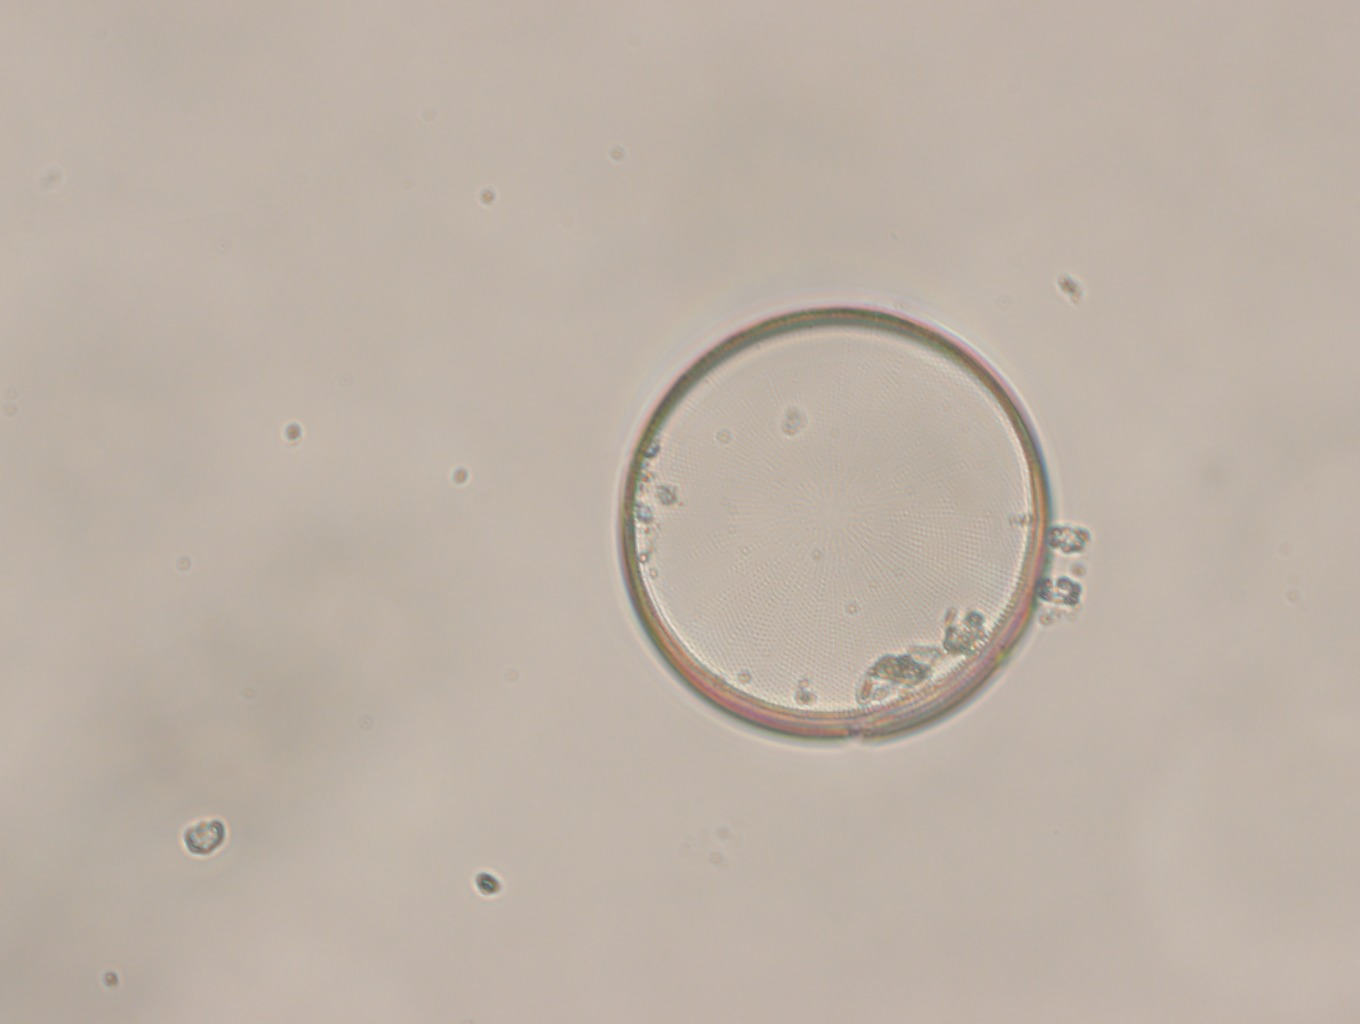coscinodiscus: (610, 297, 1057, 745)
